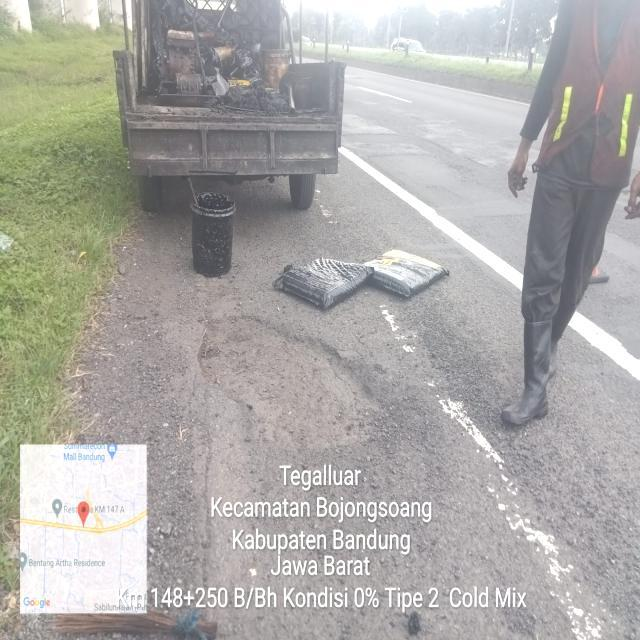Buraco: (194, 312, 391, 456)
